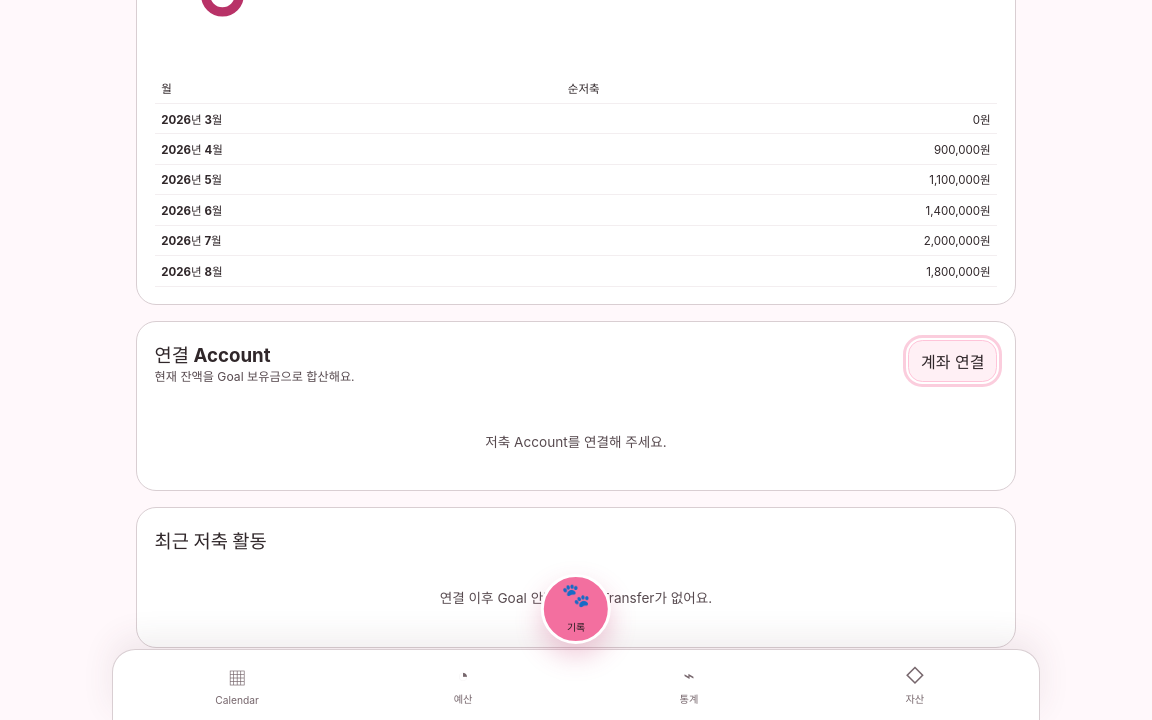
it: App › restores the Account link opener when the Sheet is cancelled
(page scrolled)
Step 1. Click the button "계좌 연결" → (953, 361), box [908, 340, 997, 382]
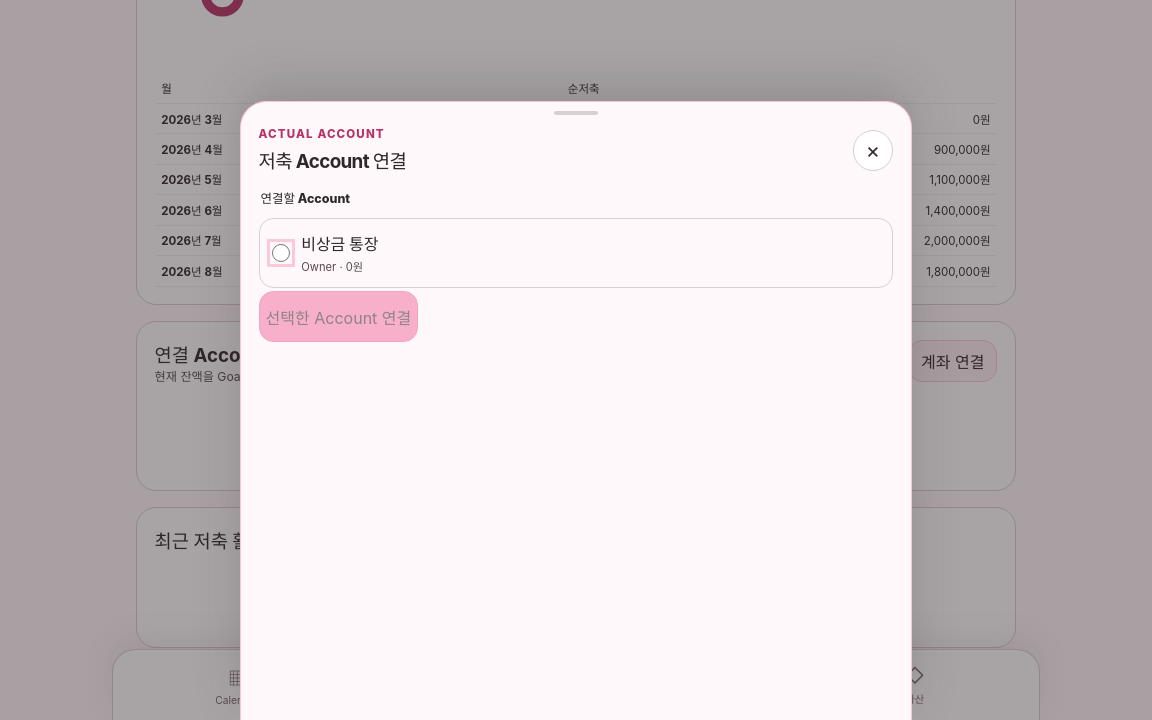
Step 2. Press Escape
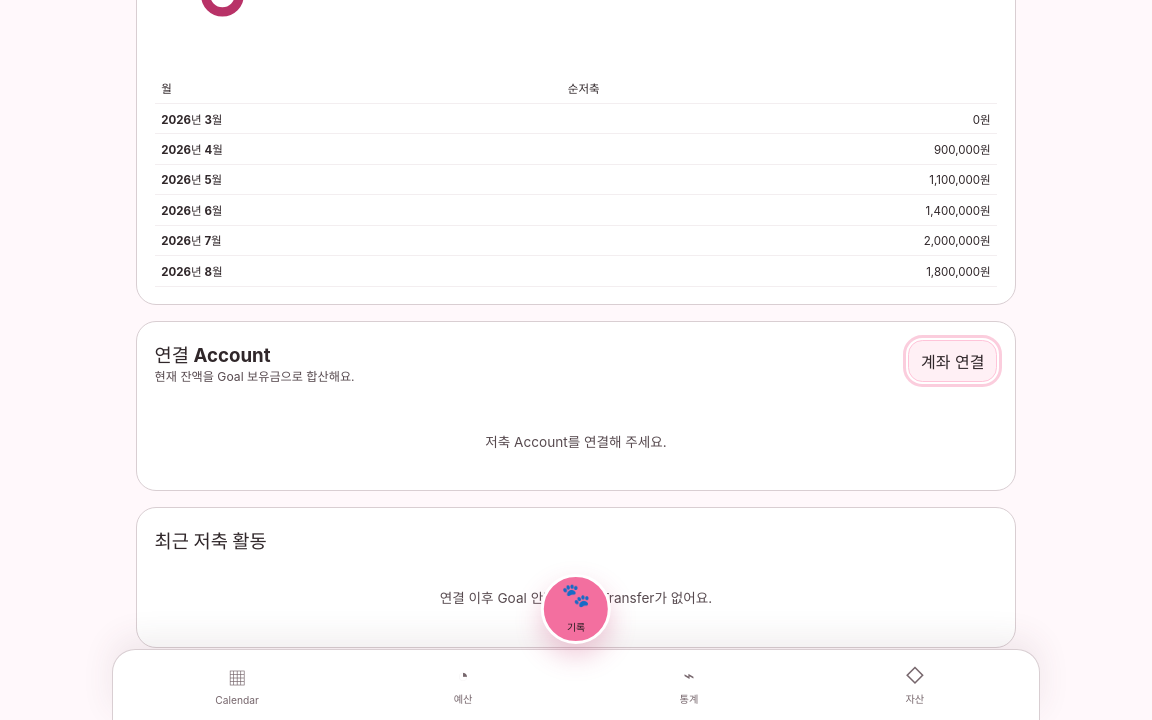
expect the dialog is gone: met
